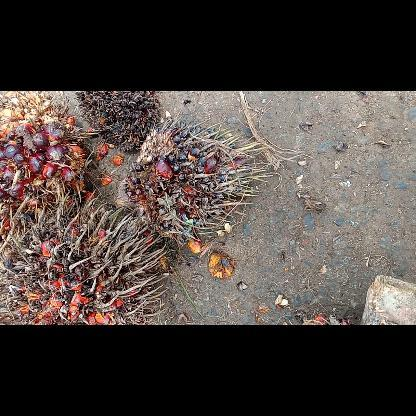TBS abnormal: (112, 119, 272, 253), (72, 92, 164, 152)
TBS masak: (0, 92, 92, 240)
Terlalu masak: (0, 194, 162, 324)
